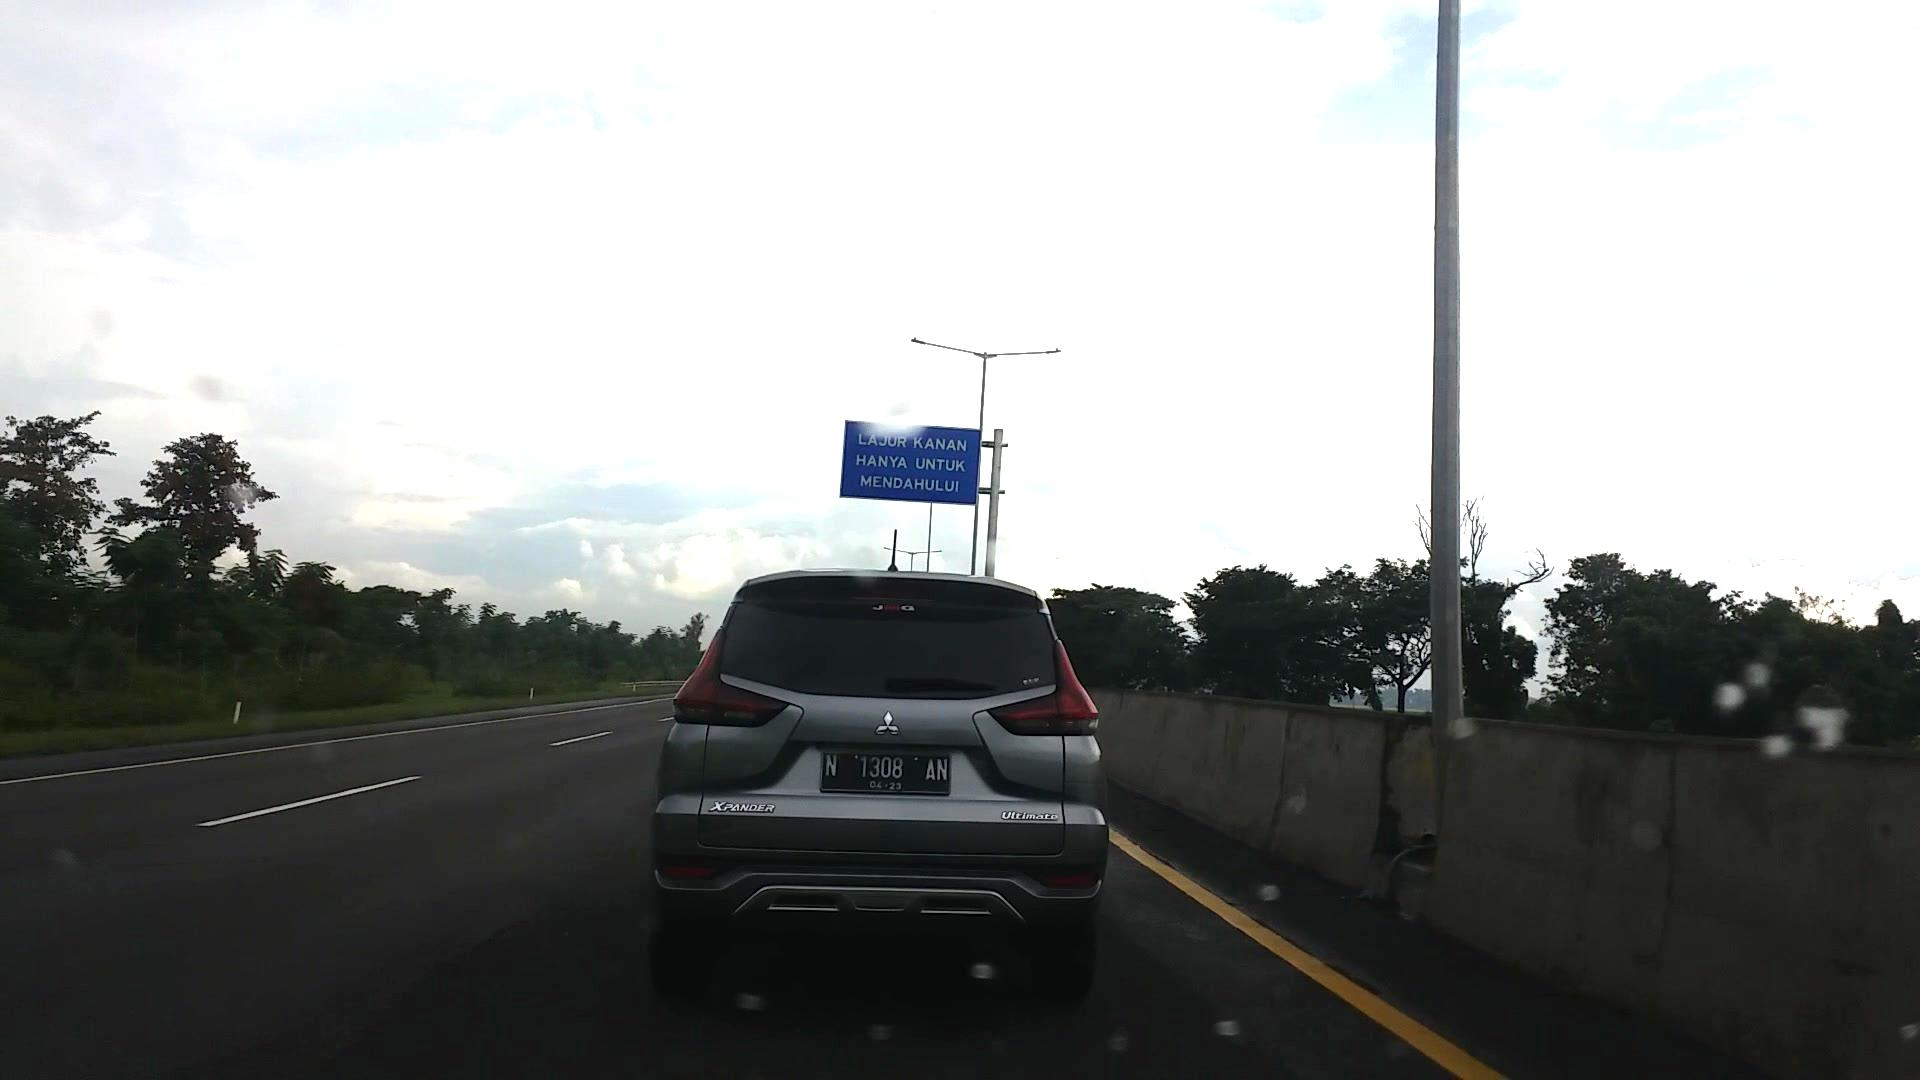plate_positive: (819, 749, 949, 796)
